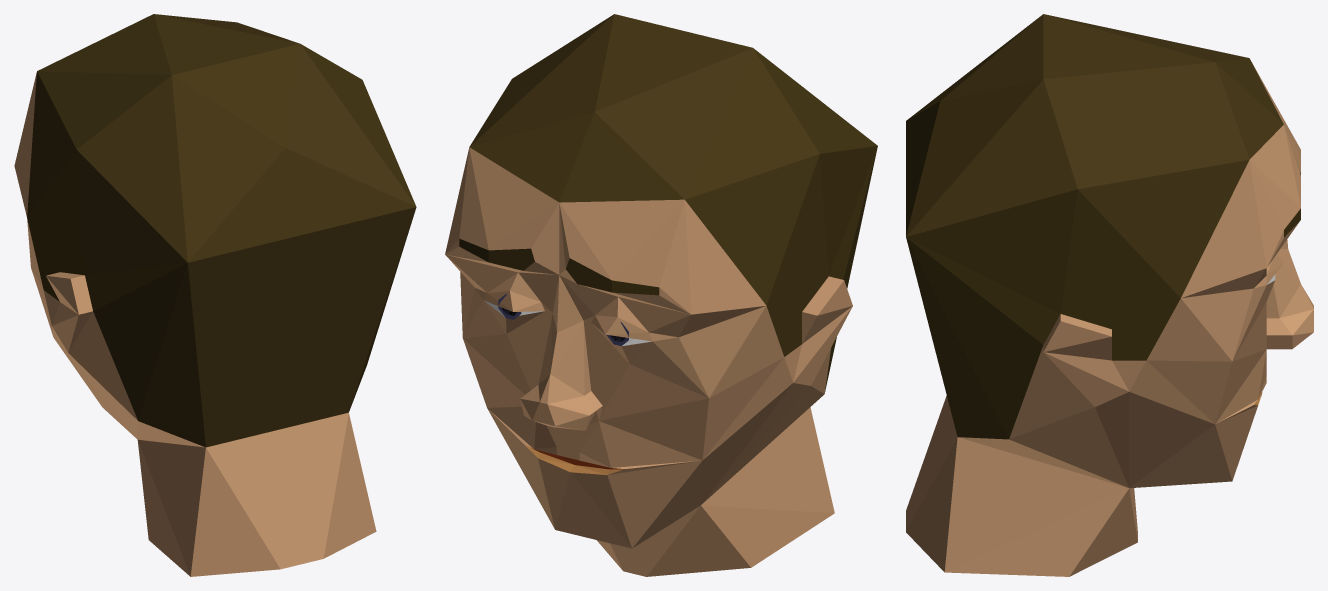
File: npc_chat_zoo_keeper_0.obj
3 views of the same model, side by side, from view 1: azimuth 30°, elevation 25°; view 2: azimuth 150°, elevation 25°; view 3: azimuth 270°, elevation 25° (orthographic). The views are drawn at different scales.
Bounding box in the file's own units: 0.6875 × 0.9844 × 0.7422.
